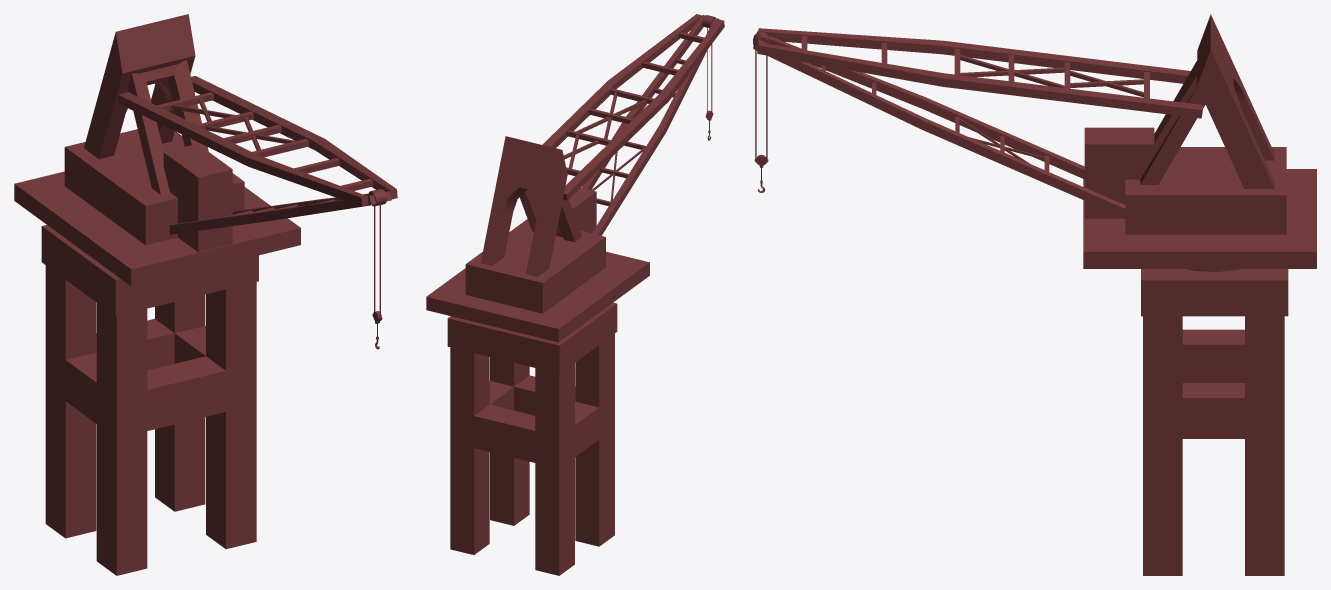
The model's file is crane boi.fbx.
3 views of the same model, side by side, from view 1: azimuth 30°, elevation 25°; view 2: azimuth 150°, elevation 25°; view 3: azimuth 270°, elevation 25° (orthographic). The views are drawn at different scales.
Parts seen in each view (by area): view 1: pCylinder28; view 2: pCylinder28; view 3: pCylinder28.
Part boxes in pixels (x1,y1,x2,y2): pCylinder28: (14, 14, 397, 575); pCylinder28: (426, 14, 724, 575); pCylinder28: (753, 14, 1316, 575).
Size of the model in its own units: 2091 by 6016 by 6027.
